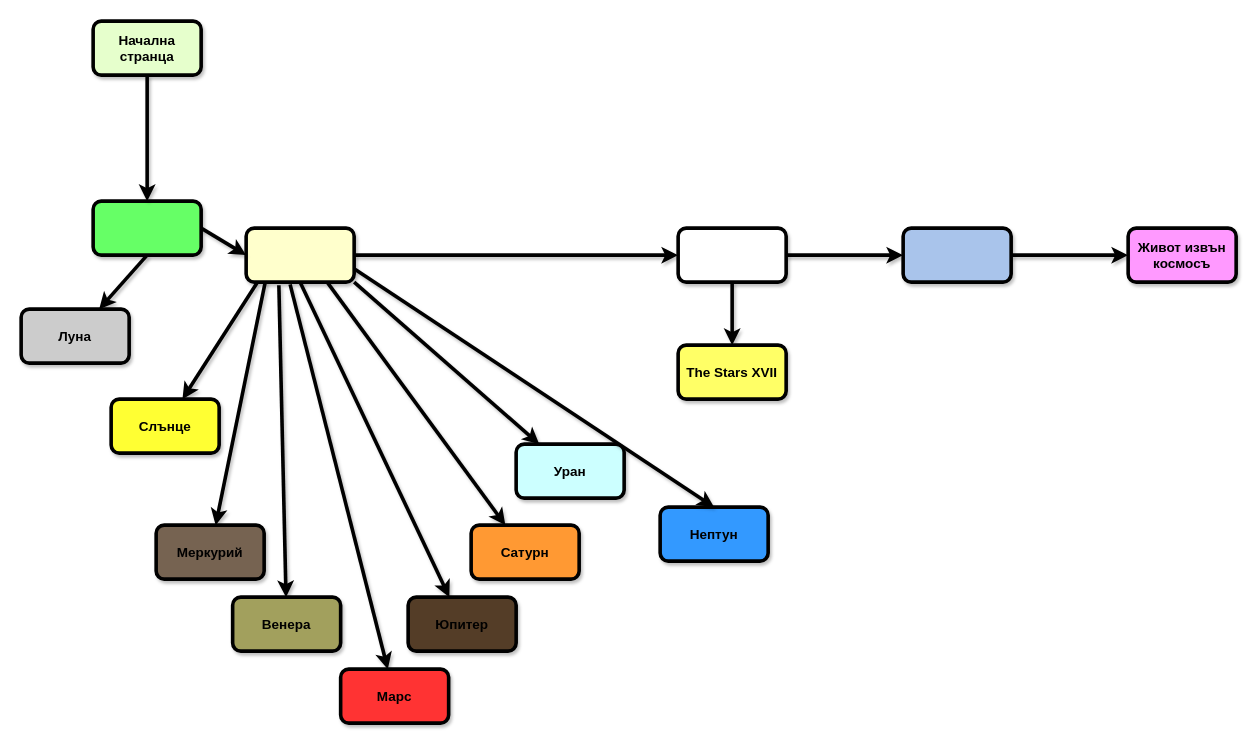
The diagram is 1258 pixels wide and 746 high, and some of its shapes have lost their labels. The centre of each missing label's shape, as x and y in pixels:
Milky Way: the point at 732,256
Галактикии!!: the point at 957,256
Земя: the point at 147,229
Слънчева система: the point at 300,256
